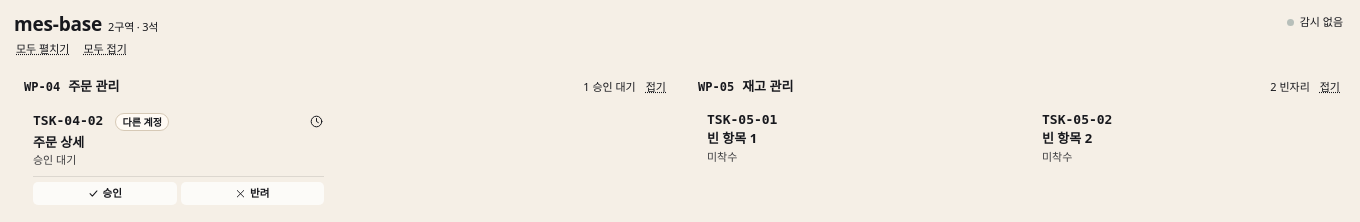
Test: FloorCard — 모든 구역은 기본 펼침이고, 접으면 아이콘이 된다(2026-09-19) › 빈 구역을 접으면 빈자리 수를 단 아이콘이 되고, 아이콘을 누르면 다시 펼쳐진다
Click the button with aria-label "구역 접기" at (1330, 87), box [1318,79,1342,96]
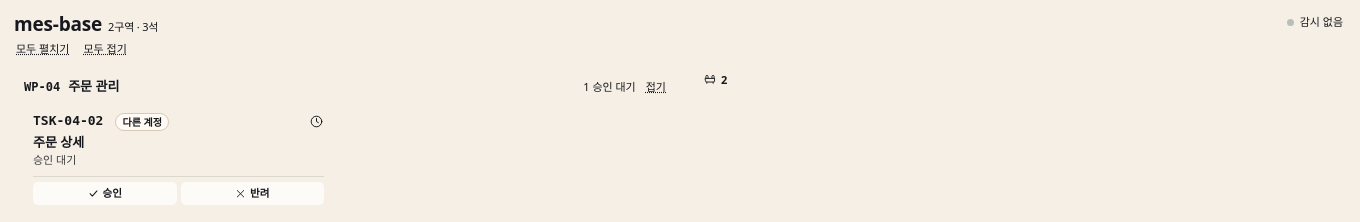
Click the button "2" at (711, 79), box [688,69,734,89]
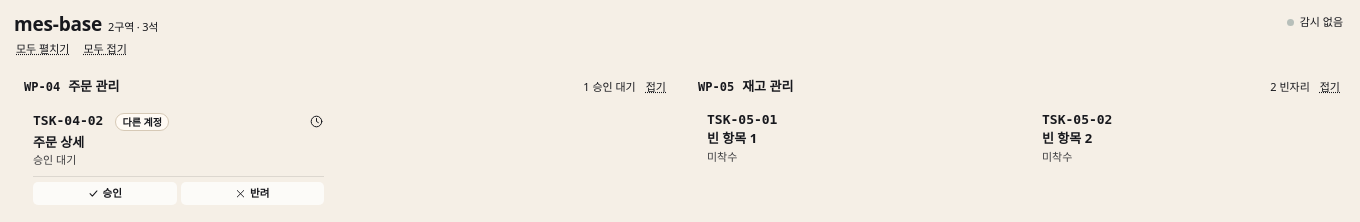
Expected: the button "TSK-05-01 빈 항목 1 미착수" is shown, [707,112,998,164]
